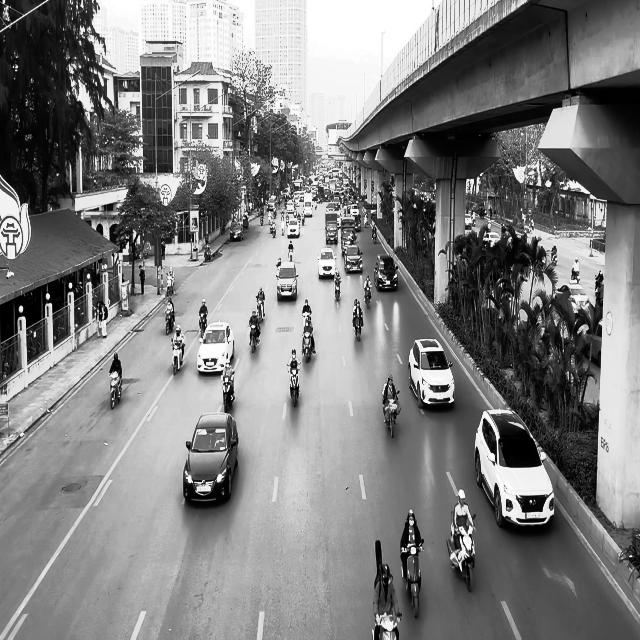car: (474, 408, 555, 528), (182, 412, 238, 504), (408, 337, 455, 409), (197, 321, 234, 374), (553, 283, 590, 321), (374, 253, 399, 291), (276, 260, 298, 301), (317, 246, 336, 278), (343, 245, 362, 274), (482, 231, 501, 248), (230, 222, 243, 240)
motorbike: (446, 513, 476, 592), (401, 541, 424, 618), (382, 391, 401, 437), (287, 363, 300, 407), (221, 372, 235, 412), (171, 338, 185, 374), (110, 371, 122, 409), (302, 328, 314, 362), (248, 320, 260, 352), (352, 311, 363, 341), (164, 307, 174, 335), (198, 314, 207, 342), (570, 266, 580, 284), (364, 286, 371, 308), (334, 279, 341, 301)
